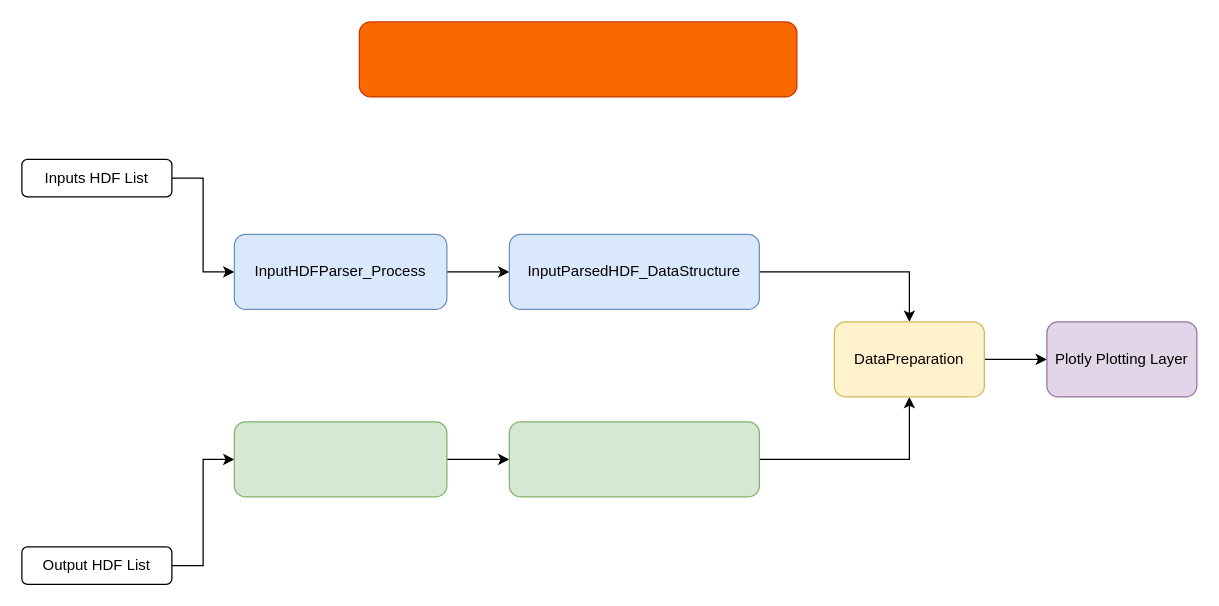
The diagram is 1219 pixels wide and 606 high, and some of its shapes have lost their labels. The shapes that lost their labels are listed below. From the top down, each one's centre as x and y in pixels, then its label:
At (577,59): "Multicore Programming".
At (340,459): "outHDFParser_Process".
At (633,459): "OutParsedHDF_DataStructure".
